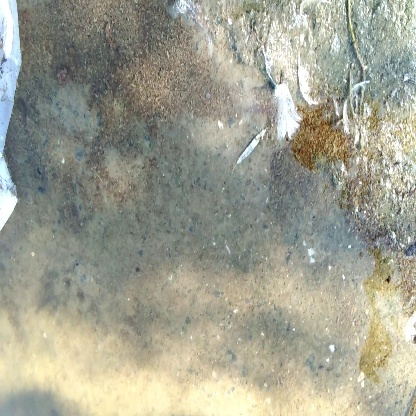branch: (336, 2, 385, 120)
